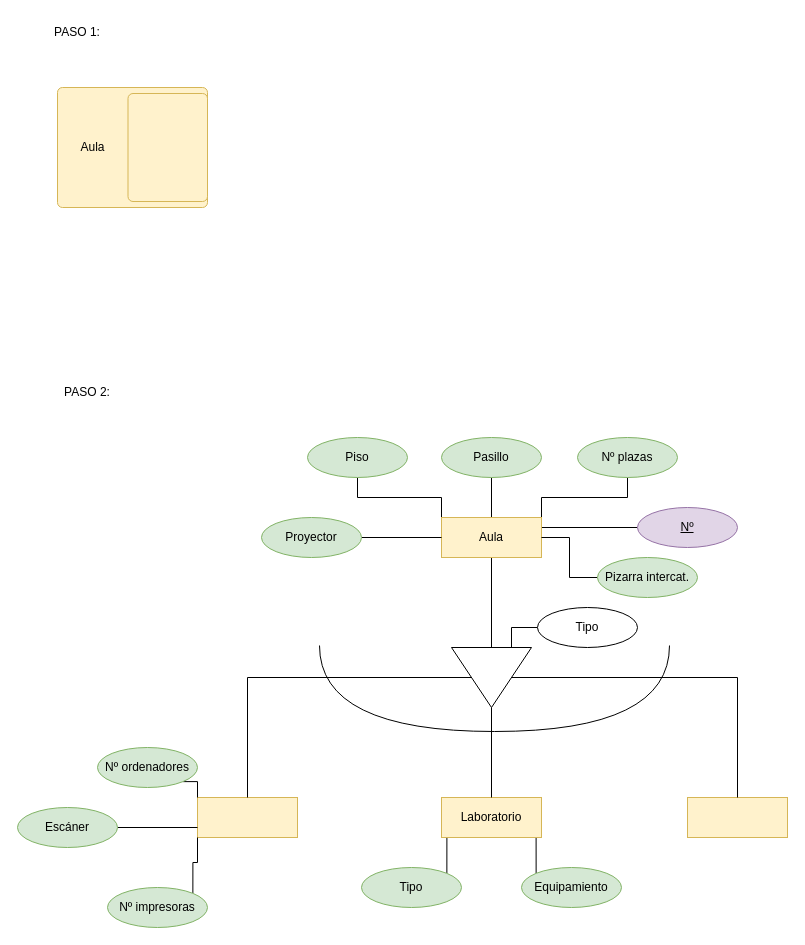
The diagram is 805 pixels wide and 945 high, and some of its shapes have lost their labels. Each missing label, with the box of its shape:
Común: (686, 796, 788, 838)
Ordenador: (196, 796, 298, 838)
Ordenador Laboratorio Común: (127, 92, 208, 202)
